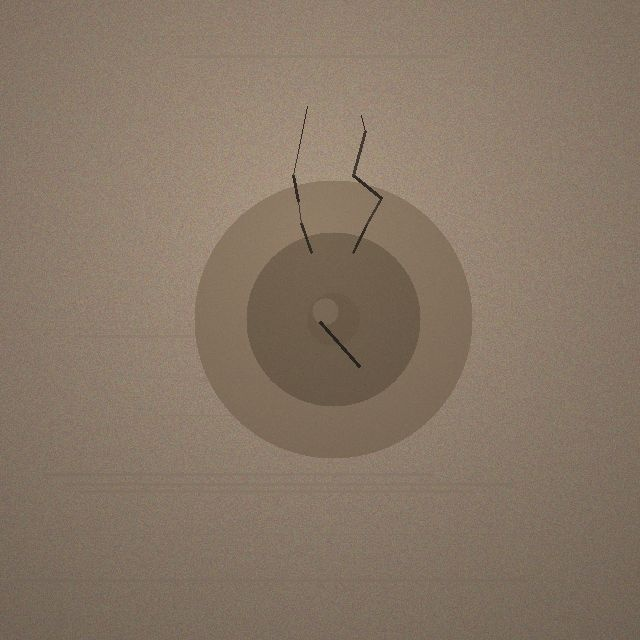crack: (194, 180, 472, 458)
